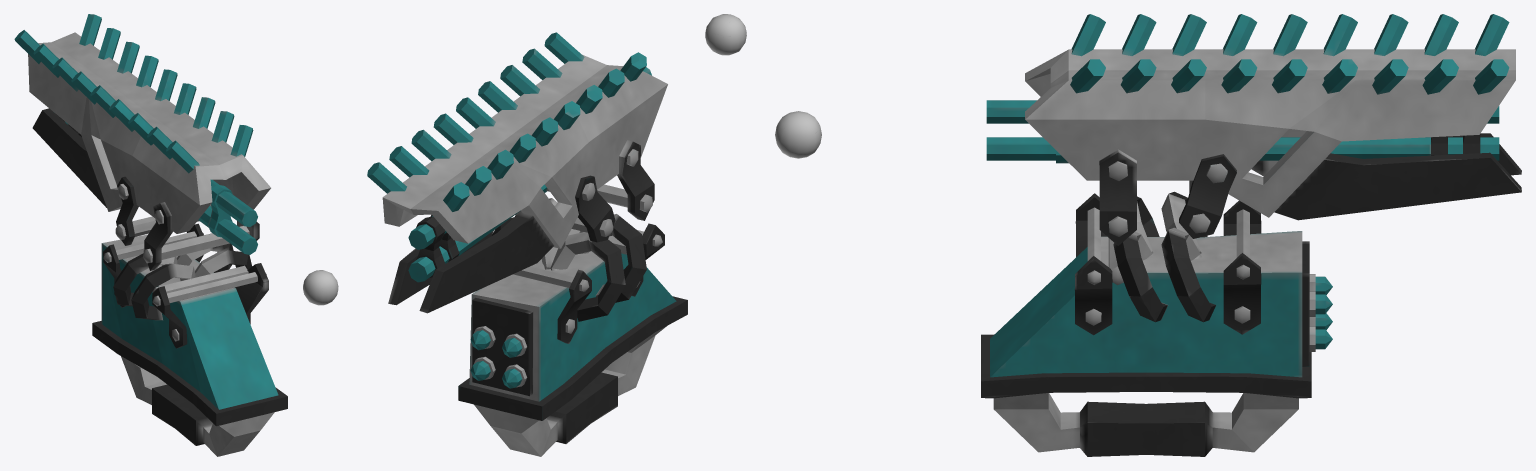
Rendered from PlasmaObjs.fbx.
3 views of the same model, side by side, from view 1: azimuth 30°, elevation 25°; view 2: azimuth 150°, elevation 25°; view 3: azimuth 270°, elevation 25° (orthographic). The views are drawn at different scales.
Visible parts, largest first — view 1: PlasmaBarrel, PlasmaMag, Plasma; view 2: PlasmaBarrel, PlasmaMag, Plasma; view 3: PlasmaBarrel, PlasmaMag, Plasma.
Boxes of the visible parts, x1,y1,x2,y2 form: PlasmaBarrel: [14, 14, 270, 270]; PlasmaMag: [92, 223, 287, 456]; Plasma: [303, 270, 338, 305]; PlasmaBarrel: [367, 32, 667, 313]; PlasmaMag: [458, 198, 687, 456]; Plasma: [705, 14, 746, 55]; PlasmaBarrel: [986, 14, 1521, 245]; PlasmaMag: [981, 191, 1332, 456]; Plasma: [775, 111, 821, 158].
Bounding box in the file's own units: 0.1687 × 0.4065 × 0.6715.
